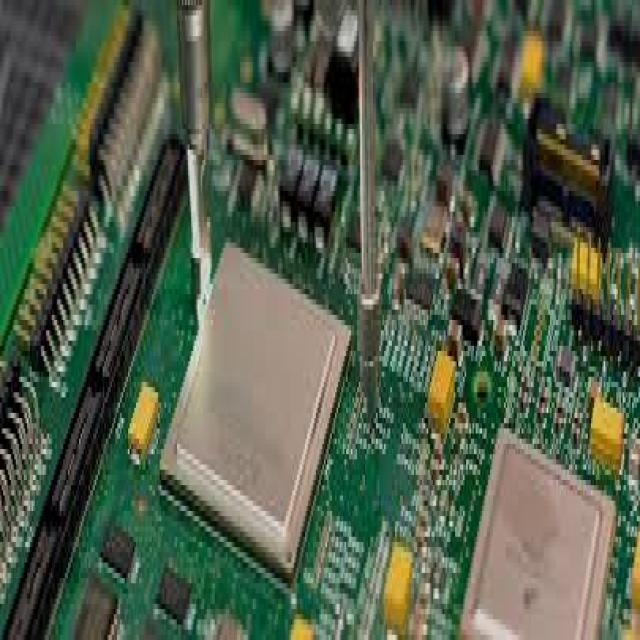pcb: (0, 0, 638, 635), (0, 0, 188, 635), (522, 88, 613, 232)
